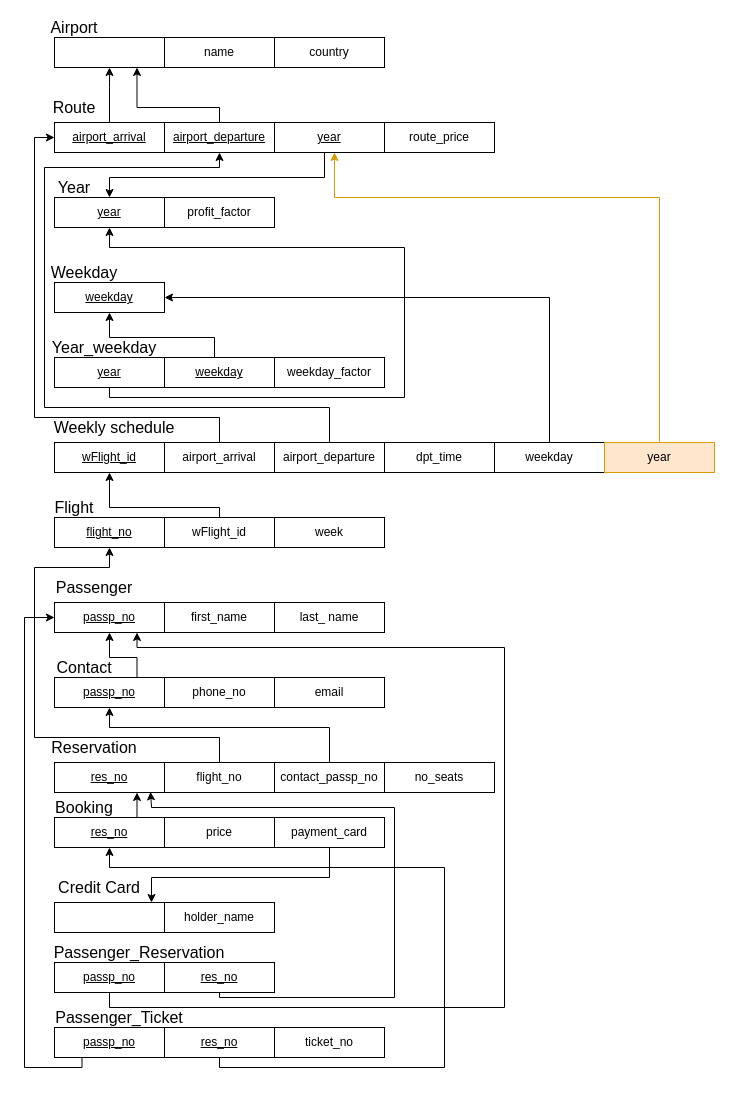
This 732x1093 diagram has some shape labels left out. Here are the shapes that lost their labels. From the top down, the centre of each, then its label:
At point (109, 52): "airport_code".
At point (109, 917): "card_no".
